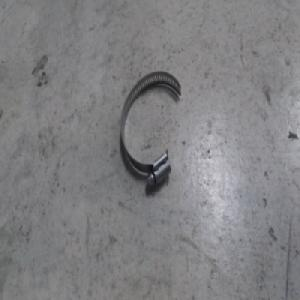AdjustableClamp: (119, 71, 183, 187)
